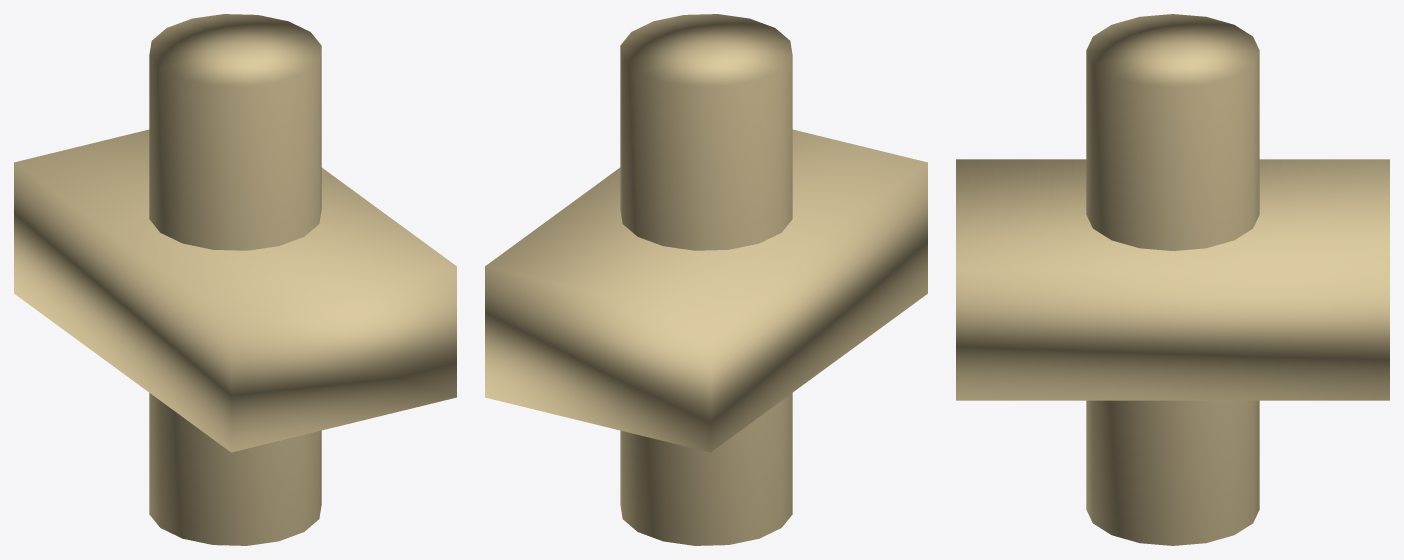
File: recipe_scroll.obj
The picture shows the model from 3 angles, left to right: view 1: azimuth 30°, elevation 25°; view 2: azimuth 150°, elevation 25°; view 3: azimuth 270°, elevation 25°; orthographic projection.
Size of the model in its own units: 1.44 by 2.8 by 2.4.
